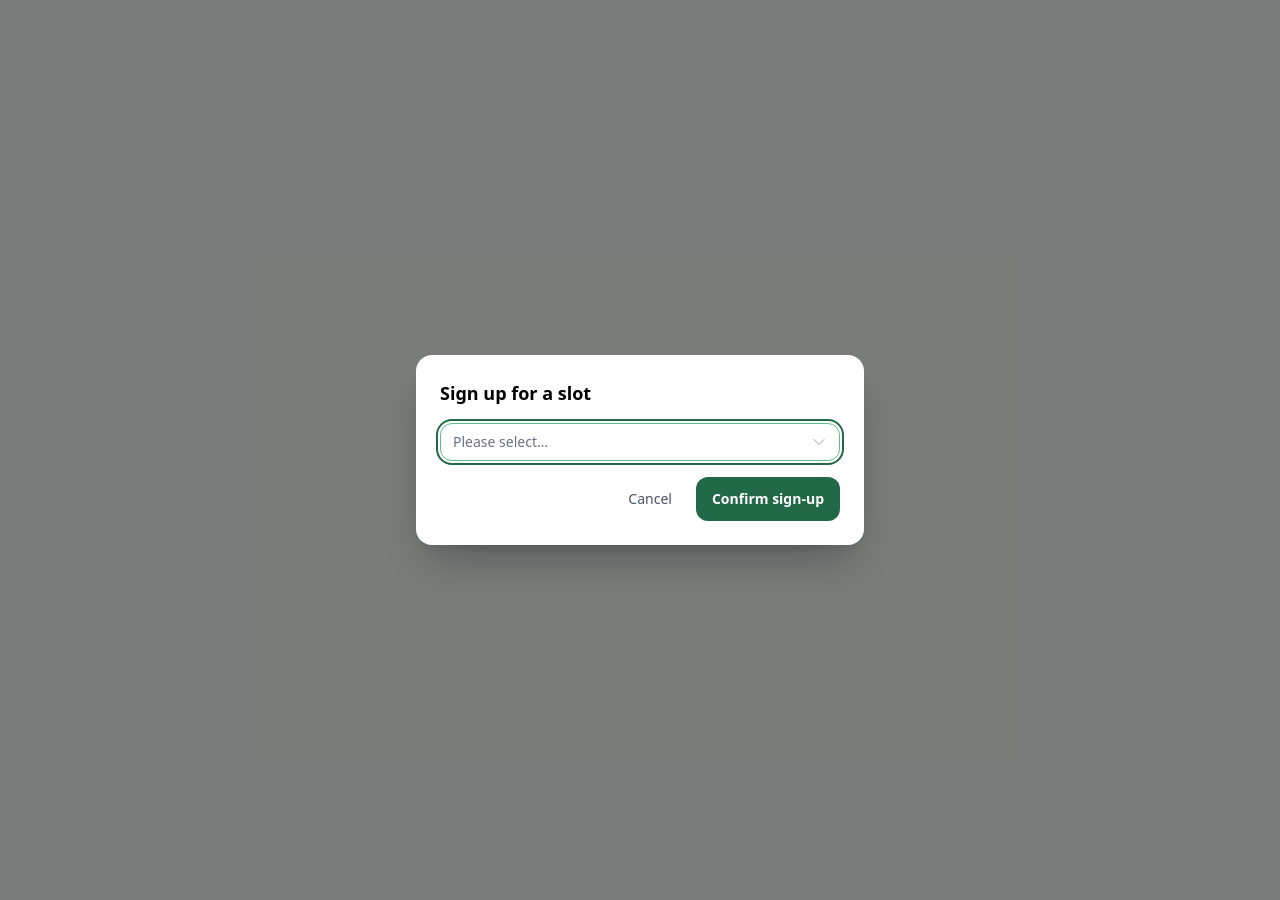
Test: SignUpModal a11y › has no violations with the time-slot listbox open
Step 1. Click the dropdown → (501, 442), box left=440, top=423, right=840, bottom=461
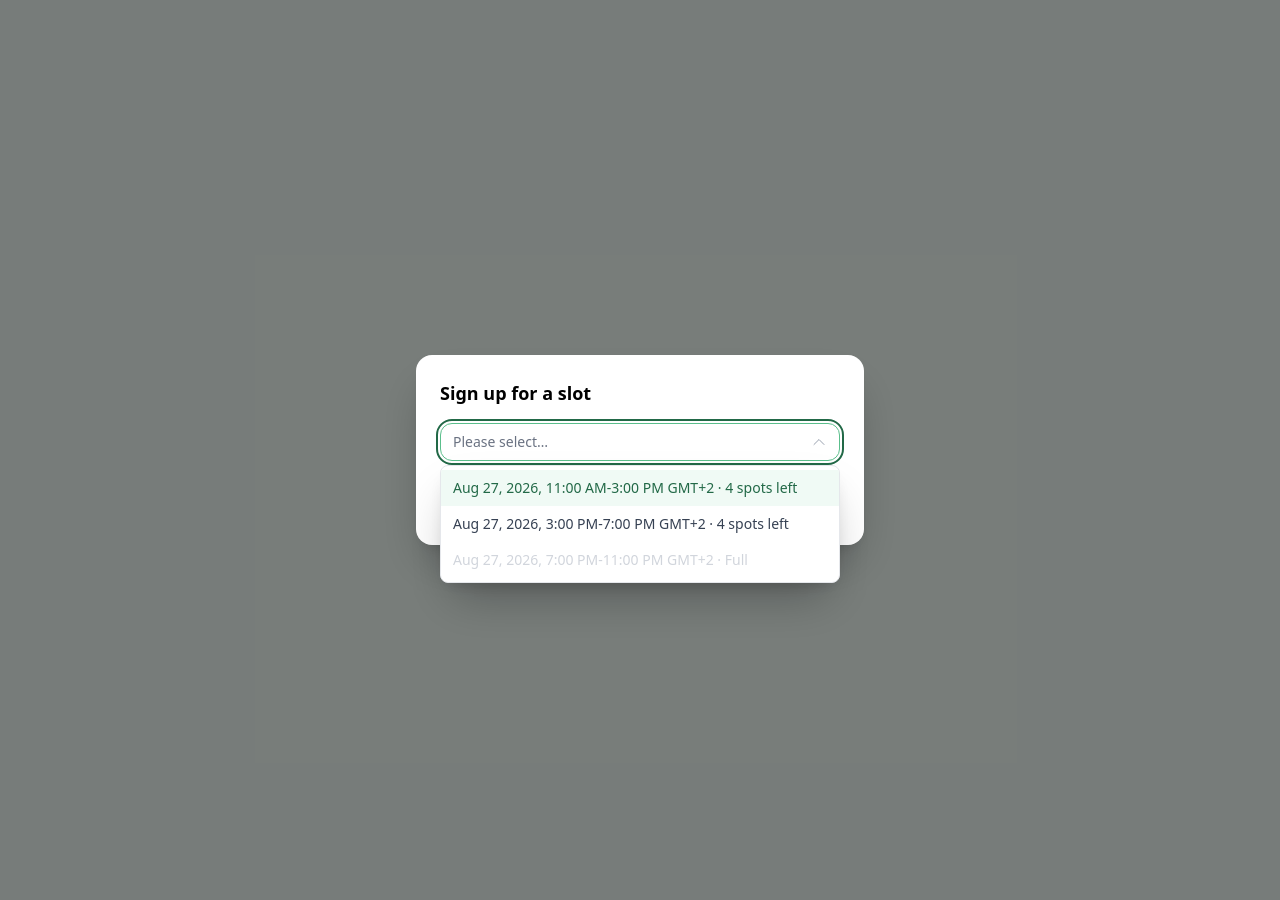
Result: the list is shown at left=440, top=465, right=840, bottom=583
